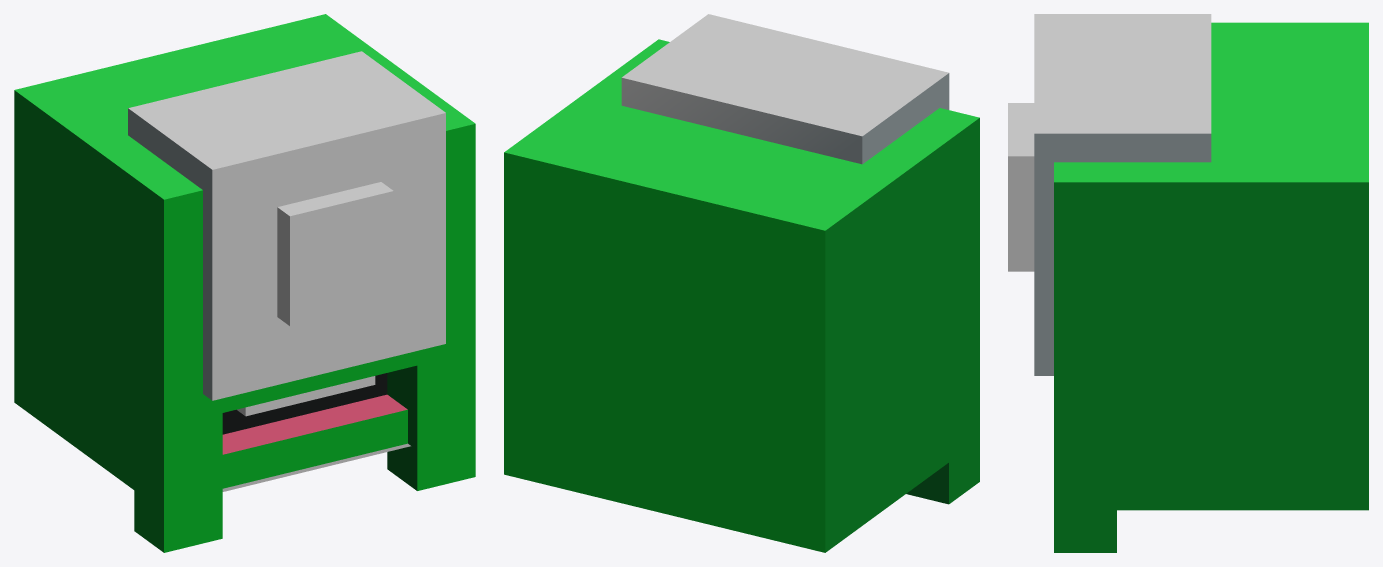
The model's file is EN_SneakyBit_Green.fbx.
The picture shows the model from 3 angles, left to right: view 1: azimuth 30°, elevation 25°; view 2: azimuth 150°, elevation 25°; view 3: azimuth 270°, elevation 25°; orthographic projection. The views are drawn at different scales.
Parts seen in each view (by area): view 1: Body, Eye, Pupil, Mouth, Shadow; view 2: Body, Eye; view 3: Body, Eye, Pupil.
Boxes of the visible parts, x1,y1,x2,y2 form: Body: (14,14,475,552); Eye: (128,51,445,400); Pupil: (277,182,393,325); Mouth: (222,394,407,488); Shadow: (222,443,410,491); Body: (504,39,979,552); Eye: (621,14,949,164); Body: (1054,22,1368,552); Eye: (1034,14,1211,375); Pupil: (1008,103,1034,271).
Size of the model in its own units: 48 by 56 by 45.84.
